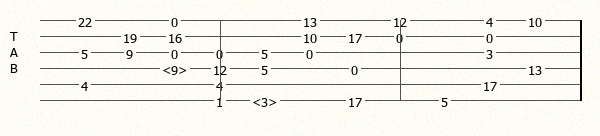0: (171, 14, 182, 27), (171, 46, 182, 59), (216, 46, 227, 59), (306, 46, 317, 59), (351, 62, 362, 75), (396, 30, 407, 43), (486, 30, 497, 43)
1: (216, 94, 227, 107)
10: (303, 30, 321, 43), (528, 14, 546, 27)
12: (213, 62, 231, 75), (393, 14, 411, 27)
13: (303, 14, 321, 27), (528, 62, 546, 75)
16: (168, 30, 186, 43)
17: (348, 94, 366, 107), (348, 30, 366, 43), (483, 78, 501, 91)
19: (123, 30, 141, 43)
22: (78, 14, 96, 27)
3: (486, 46, 497, 59)
4: (81, 78, 92, 91), (216, 78, 227, 91), (486, 14, 497, 27)
5: (81, 46, 92, 59), (261, 46, 272, 59), (261, 62, 272, 75), (441, 94, 452, 107)
9: (126, 46, 137, 59)
harmonic: (162, 62, 191, 75), (252, 94, 281, 107)
